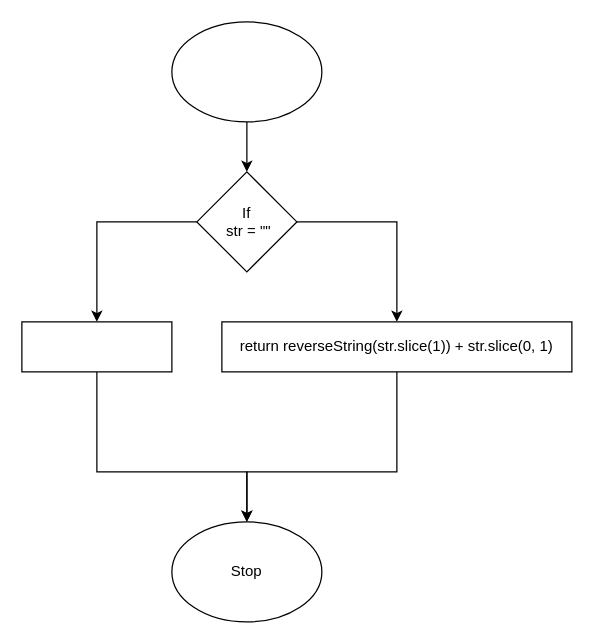
The diagram is 594 pixels wide and 644 high, and some of its shapes have lost their labels. Here are the shapes that lost their labels. From the top down, the centre of each, then its label:
the point at 246,71: Start
the point at 96,346: return str
